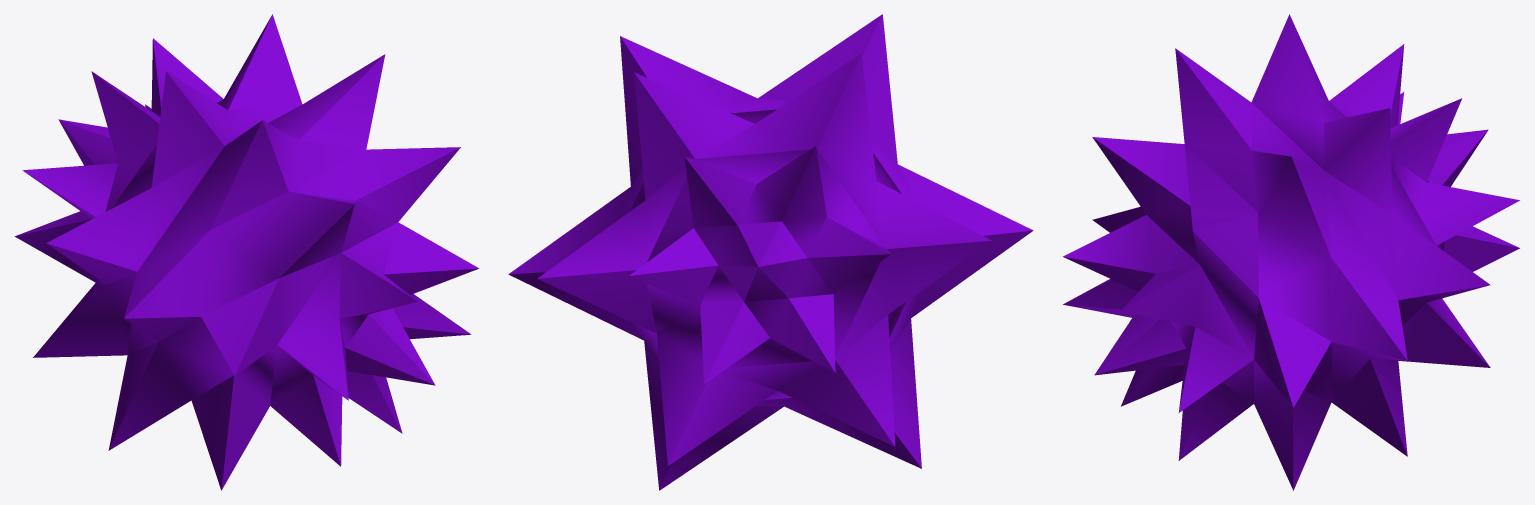
Rendered from Spline.fbx.
3 renders of one model, left to right at view 1: azimuth 30°, elevation 25°; view 2: azimuth 150°, elevation 25°; view 3: azimuth 270°, elevation 25°, orthographic. The views are drawn at different scales.
Visible parts, largest first — view 1: pSphere1; view 2: pSphere1; view 3: pSphere1.
Boxes of the visible parts, left/top/right/bottom form: pSphere1: left=14, top=14, right=479, bottom=490; pSphere1: left=508, top=14, right=1033, bottom=490; pSphere1: left=1063, top=14, right=1519, bottom=490.
Size of the model in its own units: 111 by 106 by 110.
